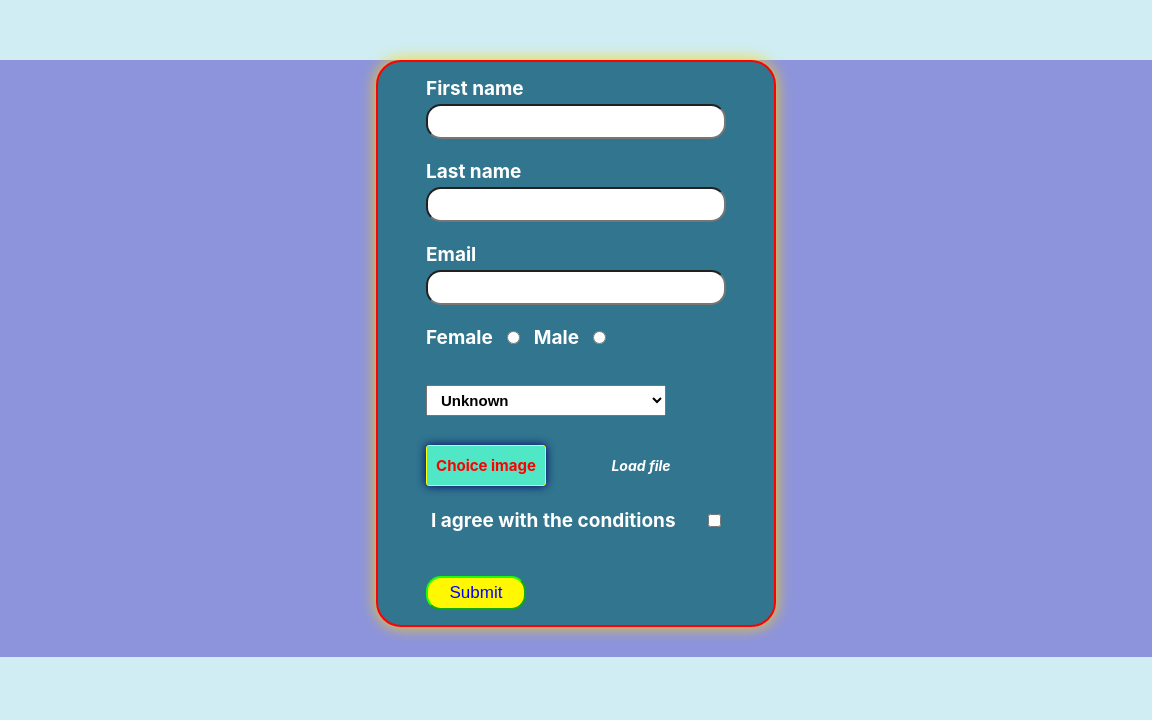
Scenario: Form › button disabled
Click the button with test id "button-submit": coordinates (476, 593) [426,576,526,610]
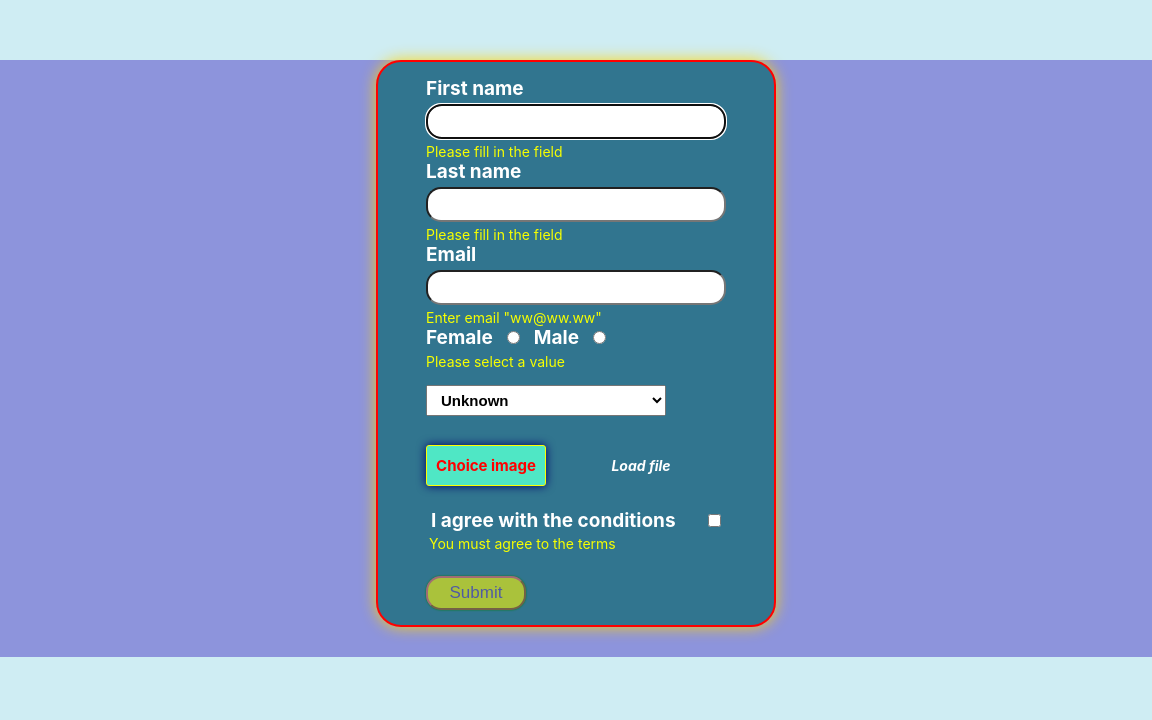
Now the button with test id "button-submit" is disabled, box [426,576,526,610]
